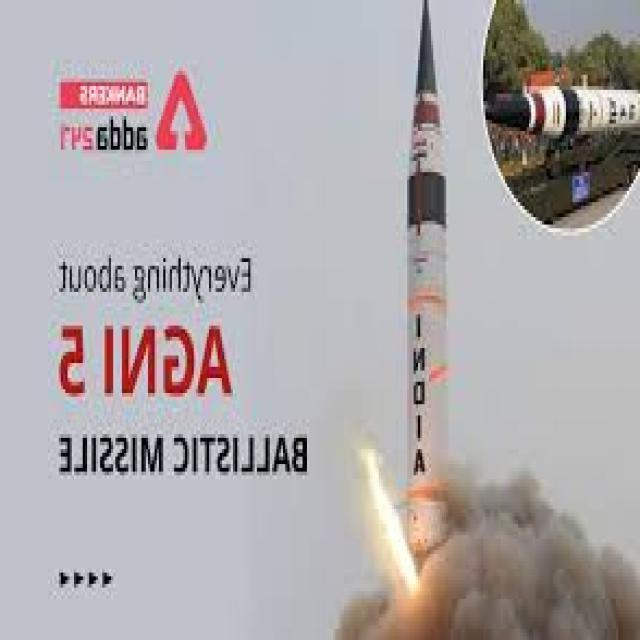Missile: (395, 4, 471, 578)
